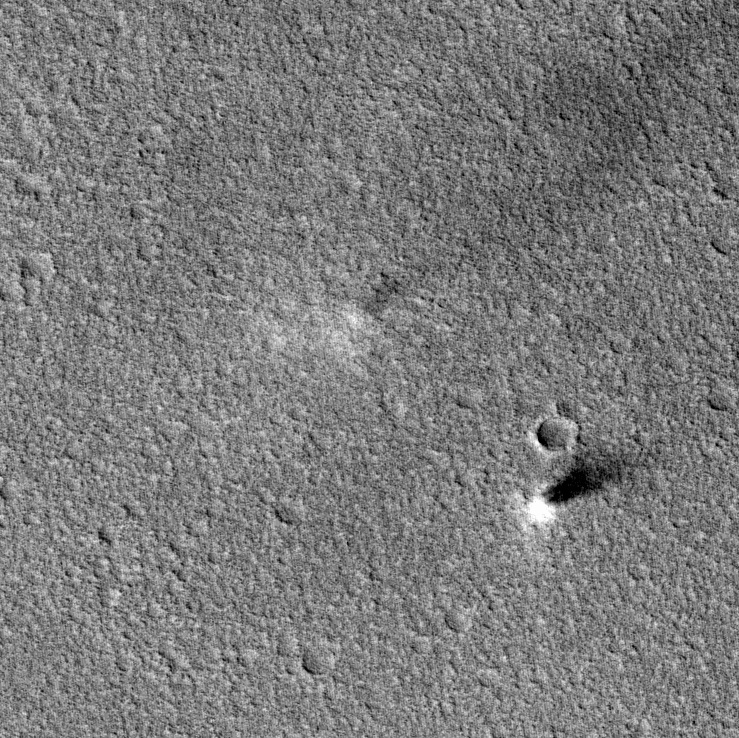dust_devil: (523, 444, 661, 526), (345, 277, 403, 330)
